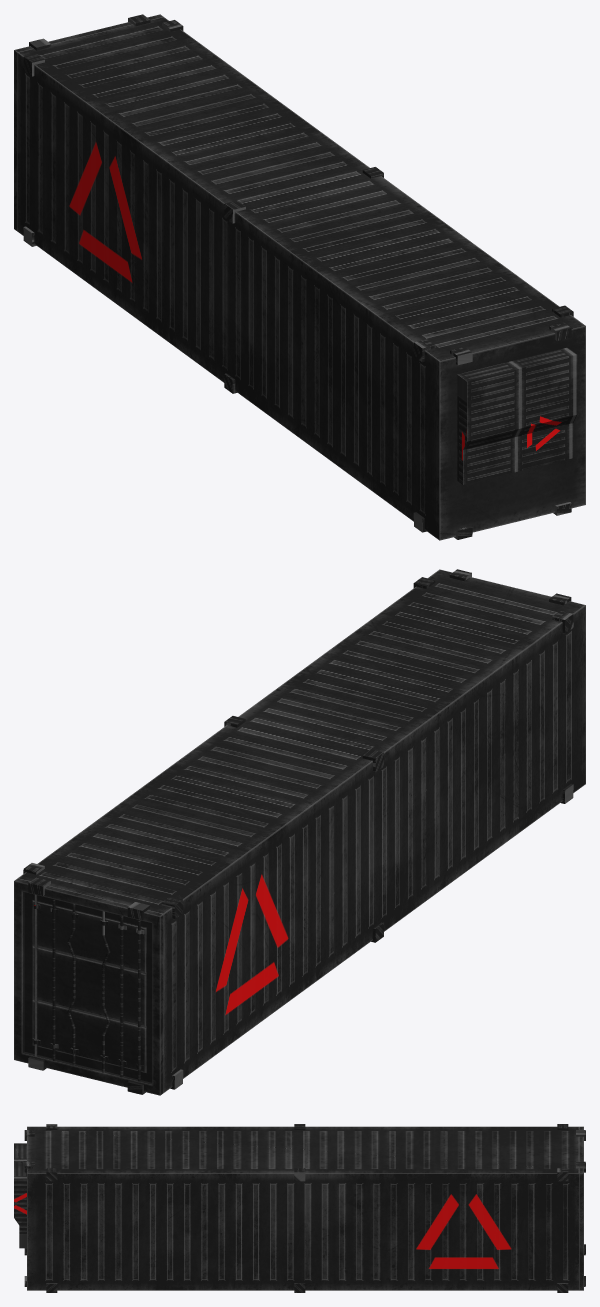
File: container.fbx
The picture shows the model from 3 angles, top to bottom: view 1: azimuth 30°, elevation 25°; view 2: azimuth 150°, elevation 25°; view 3: azimuth 270°, elevation 25°; orthographic projection. The views are drawn at different scales.
Visible parts, largest first — view 1: defaultMaterial; view 2: defaultMaterial; view 3: defaultMaterial.
Part boxes in pixels (left/top/right/bottom): defaultMaterial: left=14, top=14, right=585, bottom=540; defaultMaterial: left=14, top=569, right=585, bottom=1095; defaultMaterial: left=14, top=1124, right=585, bottom=1292.
Bounding box in the file's own units: 160 × 186 × 800.
Materials: 1 (1 with a texture image).
